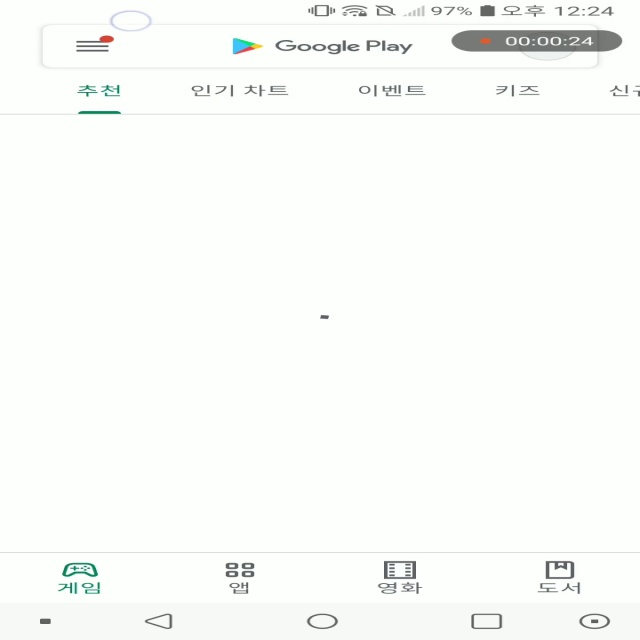Cursor: (110, 9, 154, 32)
